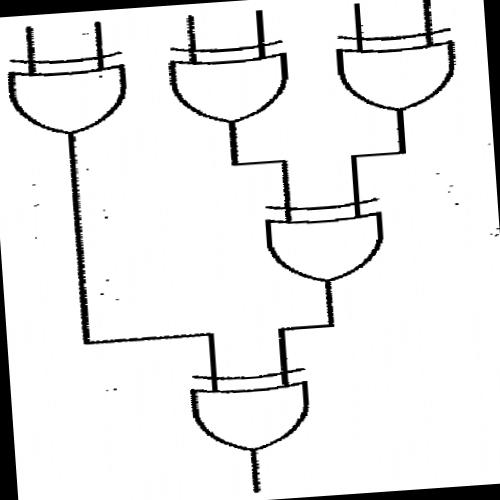xor: (176, 362, 324, 461), (252, 192, 396, 291), (156, 34, 298, 133), (327, 19, 465, 120), (0, 45, 135, 144)
